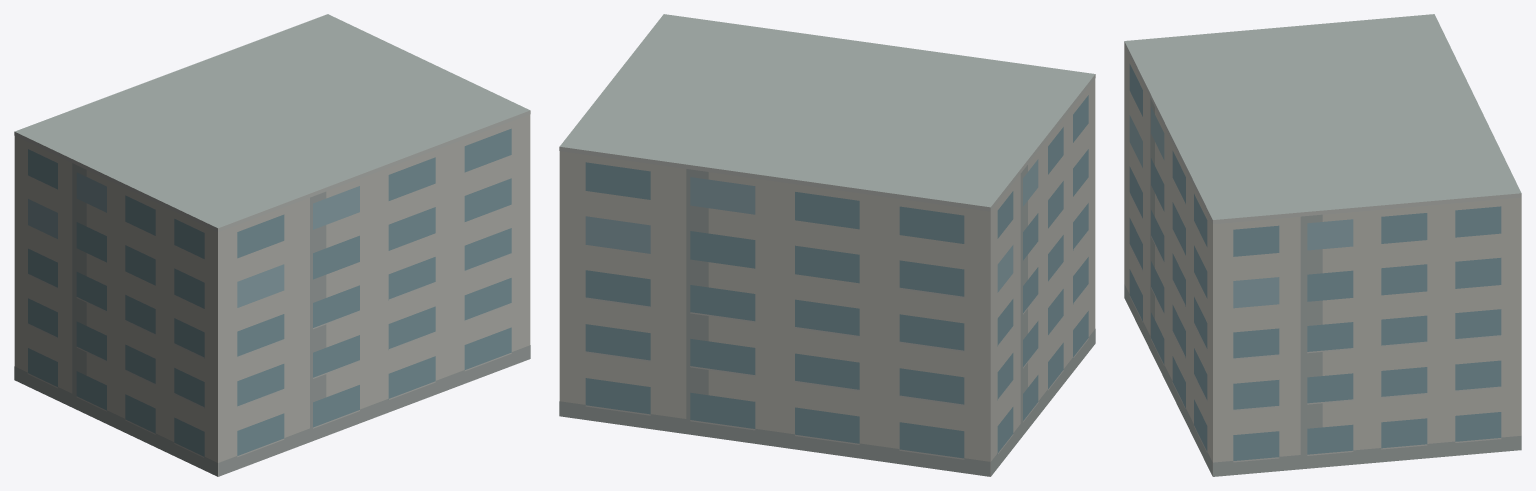
Rendered from survey-upis-32934416.glb.
3 views of the same model, side by side, from view 1: azimuth 30°, elevation 25°; view 2: azimuth 150°, elevation 25°; view 3: azimuth 270°, elevation 25° (orthographic). The views are drawn at different scales.
Visible parts, largest first — view 1: survey-upis-32934416.tmp; view 2: survey-upis-32934416.tmp; view 3: survey-upis-32934416.tmp.
Boxes of the visible parts, box(x1,y1,x2,y2) form: survey-upis-32934416.tmp: box(14, 14, 530, 476); survey-upis-32934416.tmp: box(559, 14, 1095, 476); survey-upis-32934416.tmp: box(1124, 14, 1521, 476).
Bounding box in the file's own units: 26.25 × 15.25 × 21.38.
